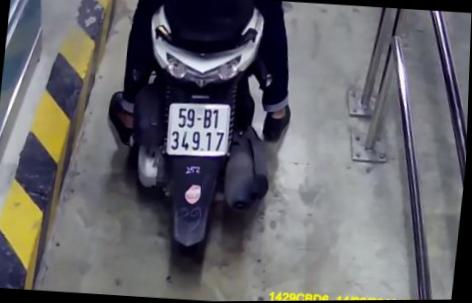LP: (164, 102, 235, 158)
